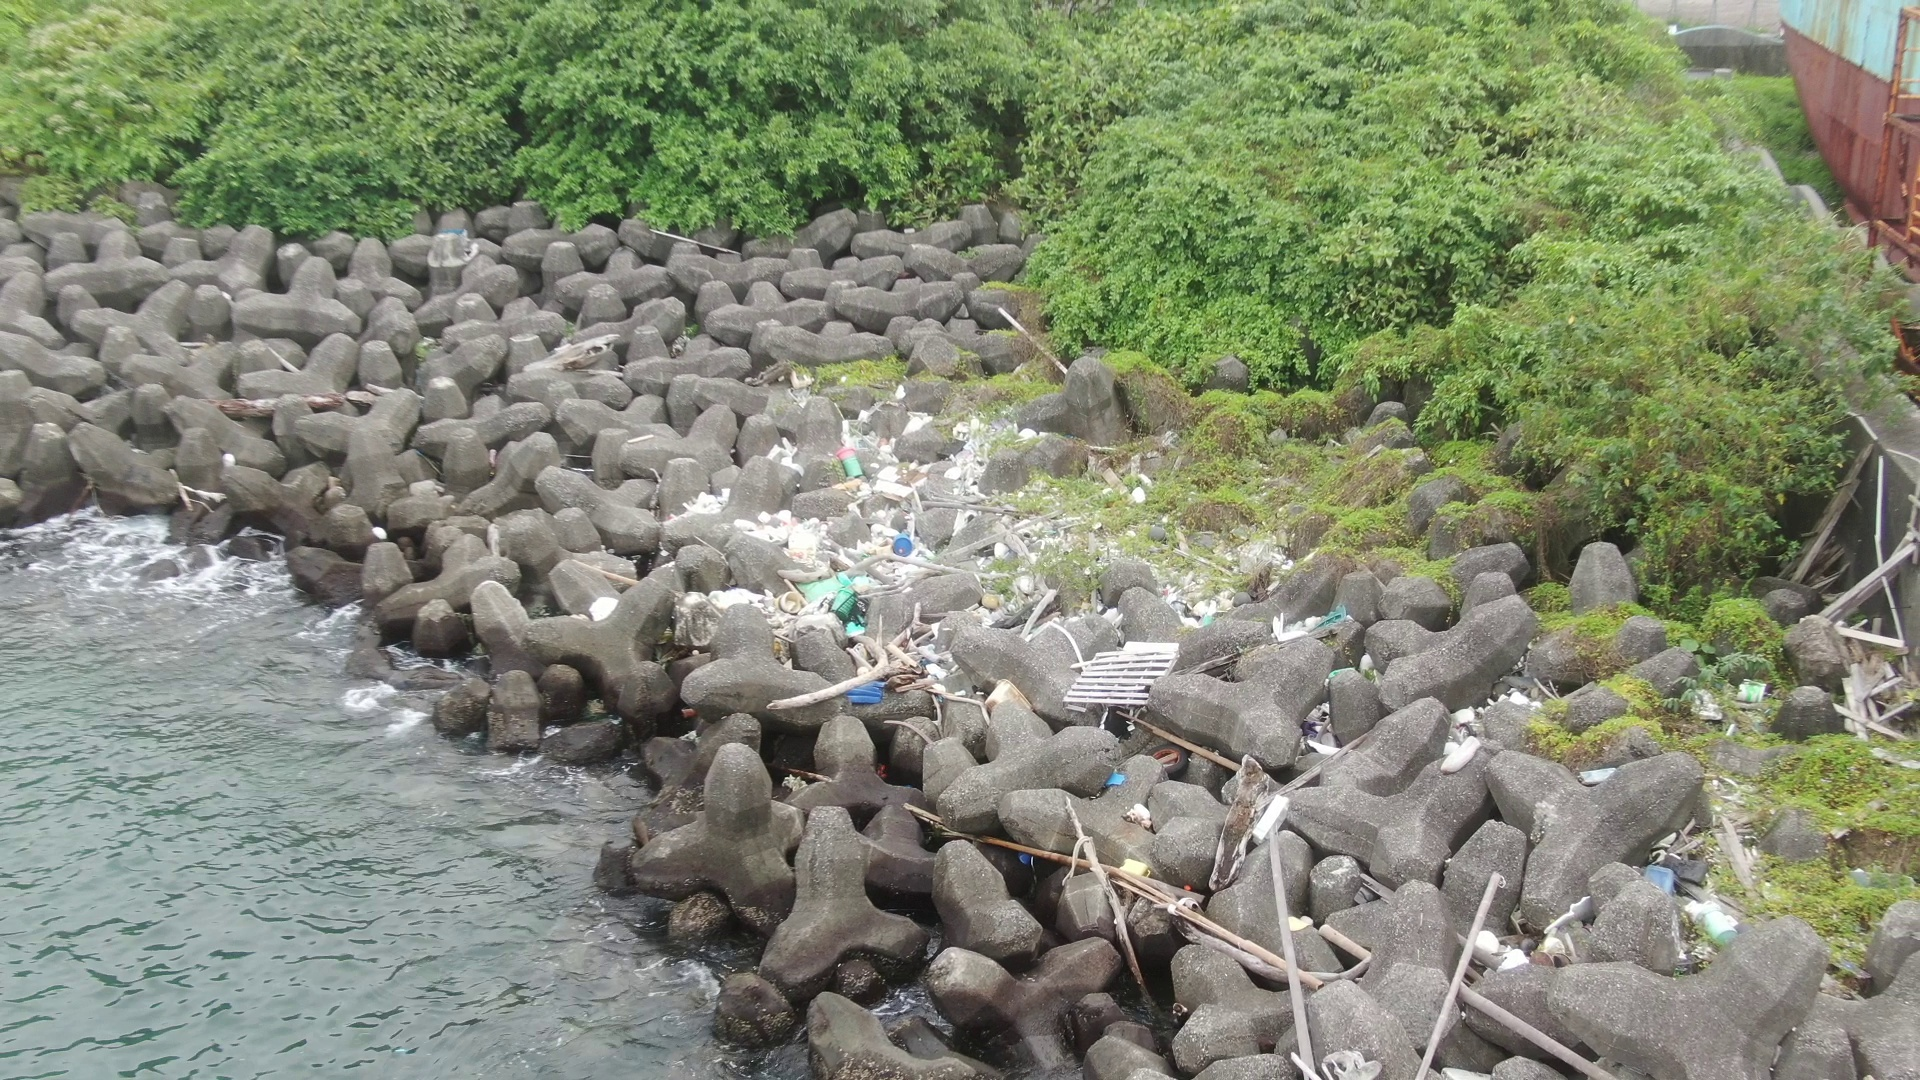garbage: (662, 369, 1193, 708), (1000, 833, 1221, 940), (1639, 810, 1746, 957), (1448, 886, 1607, 982), (1287, 595, 1367, 764), (1425, 684, 1563, 783), (1100, 736, 1225, 833), (1259, 1042, 1418, 1080), (1677, 669, 1778, 723)
